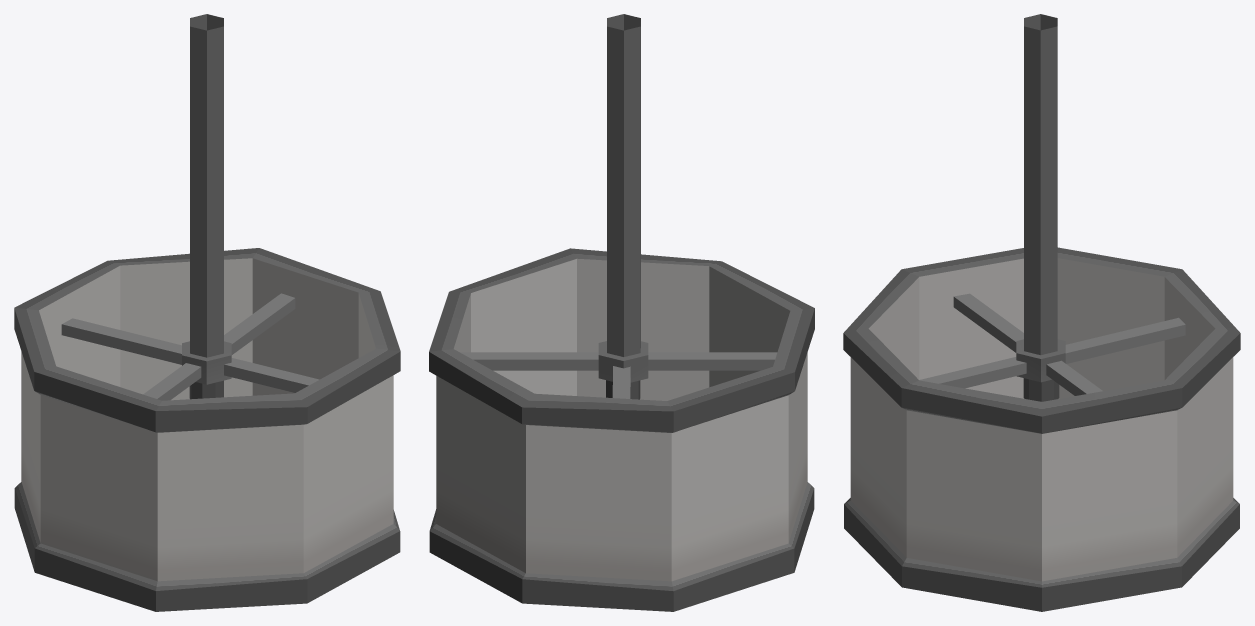
File: SM_Prop_Lights_07_Head_01.obj
The picture shows the model from 3 angles, left to right: view 1: azimuth 30°, elevation 25°; view 2: azimuth 150°, elevation 25°; view 3: azimuth 270°, elevation 25°; orthographic projection.
Parts seen in each view (by area): view 1: SM_Prop_Lights_07_Head_01_0; view 2: SM_Prop_Lights_07_Head_01_0; view 3: SM_Prop_Lights_07_Head_01_0.
Boxes of the visible parts, bbox=[...] form: SM_Prop_Lights_07_Head_01_0: bbox=[14, 14, 400, 611]; SM_Prop_Lights_07_Head_01_0: bbox=[429, 14, 814, 611]; SM_Prop_Lights_07_Head_01_0: bbox=[843, 14, 1240, 611].
Size of the model in its own units: 0.7021 by 0.9856 by 0.7021.
Materials: 1 (1 with a texture image).
